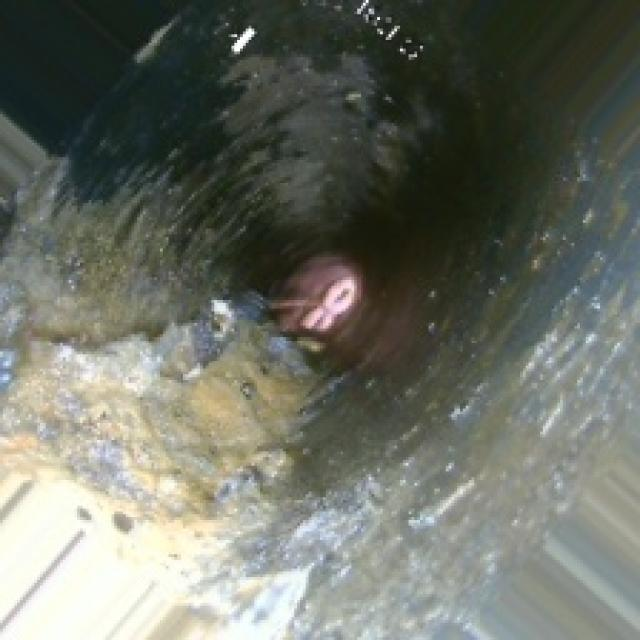sluge accumulation: (31, 306, 320, 617)
